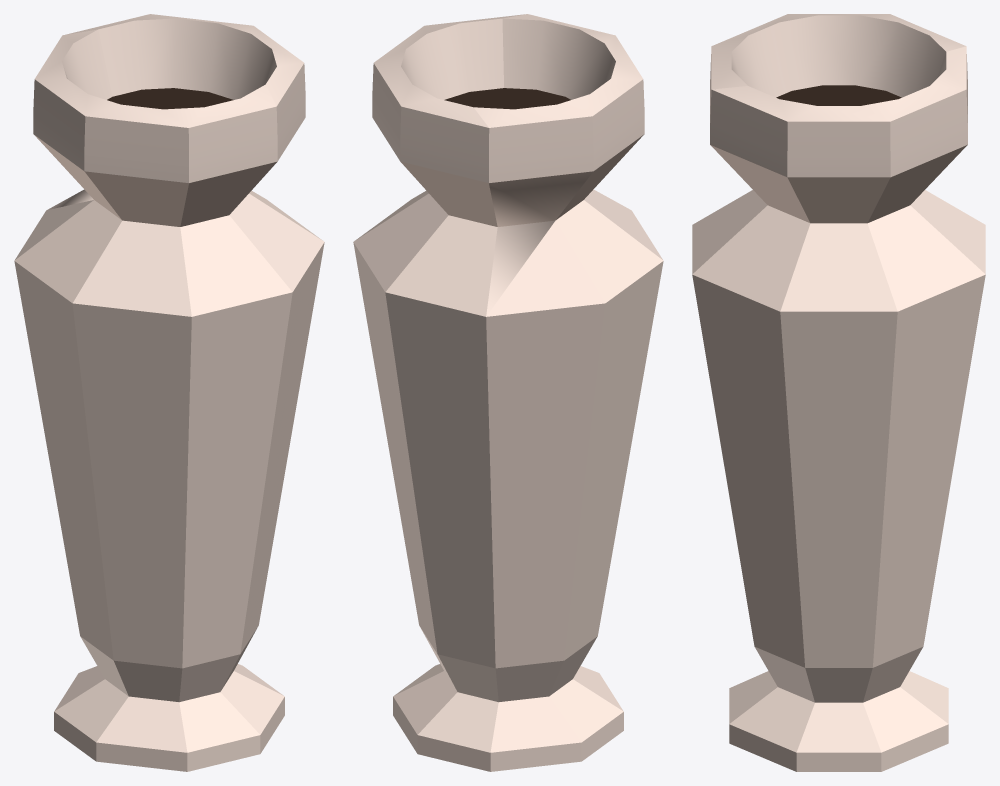
Rendered from PROP_Vase.fbx.
3 views of the same model, side by side, from view 1: azimuth 30°, elevation 25°; view 2: azimuth 150°, elevation 25°; view 3: azimuth 270°, elevation 25° (orthographic).
Parts seen in each view (by area): view 1: Vase_3, Vase_6, Vase_5, Vase_1, Vase_2, Vase_4; view 2: Vase_3, Vase_2, Vase_6, Vase_5, Vase_1, Vase_4; view 3: Vase_2, Vase_5, Vase_6, Vase_4, Vase_3, Vase_1.
Part boxes in pixels (box(x1,y1,x2,y2)): Vase_3: box(14, 200, 292, 702); Vase_6: box(33, 29, 277, 226); Vase_5: box(63, 14, 305, 160); Vase_1: box(54, 666, 260, 771); Vase_2: box(221, 190, 324, 690); Vase_4: box(220, 664, 284, 753); Vase_3: box(486, 189, 663, 701); Vase_2: box(353, 190, 498, 701); Vase_6: box(474, 14, 644, 316); Vase_5: box(372, 14, 526, 226); Vase_1: box(490, 666, 623, 771); Vase_4: box(393, 664, 498, 771); Vase_2: box(692, 190, 985, 702); Vase_5: box(710, 46, 967, 223); Vase_6: box(710, 14, 965, 122); Vase_4: box(729, 671, 948, 771); Vase_3: box(692, 190, 767, 273); Vase_1: box(729, 671, 777, 723).
Size of the model in its own units: 15.17 by 37.9 by 15.17.
